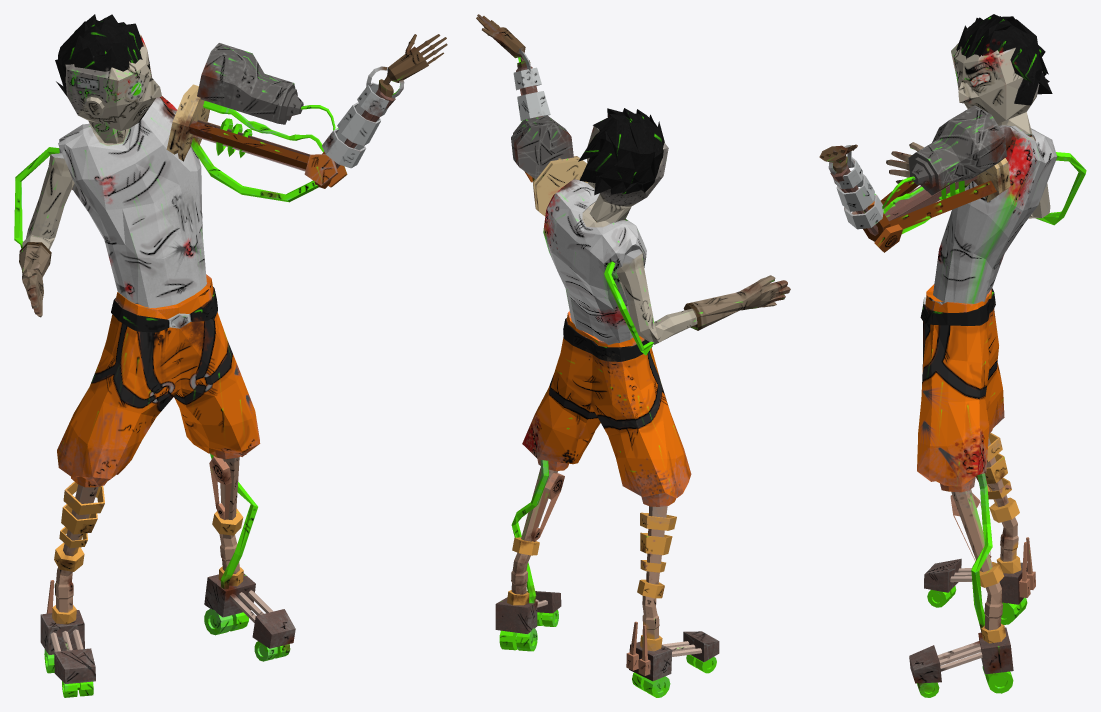
File: CyborgFINALAnimation_000058.obj
3 views of the same model, side by side, from view 1: azimuth 30°, elevation 25°; view 2: azimuth 150°, elevation 25°; view 3: azimuth 270°, elevation 25° (orthographic). The views are drawn at different scales.
Visible parts, largest first — view 1: CyborgMesh_Cube.002; view 2: CyborgMesh_Cube.002; view 3: CyborgMesh_Cube.002.
Boxes of the visible parts, x1,y1,x2,y2 form: CyborgMesh_Cube.002: [14, 14, 447, 697]; CyborgMesh_Cube.002: [476, 14, 790, 697]; CyborgMesh_Cube.002: [819, 14, 1086, 697].
Bounding box in the file's own units: 5.92 × 9.54 × 3.73.
